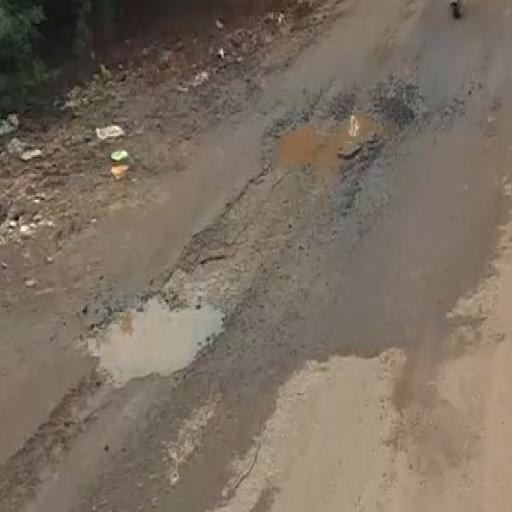pothole: (60, 237, 246, 462), (252, 54, 438, 234)
